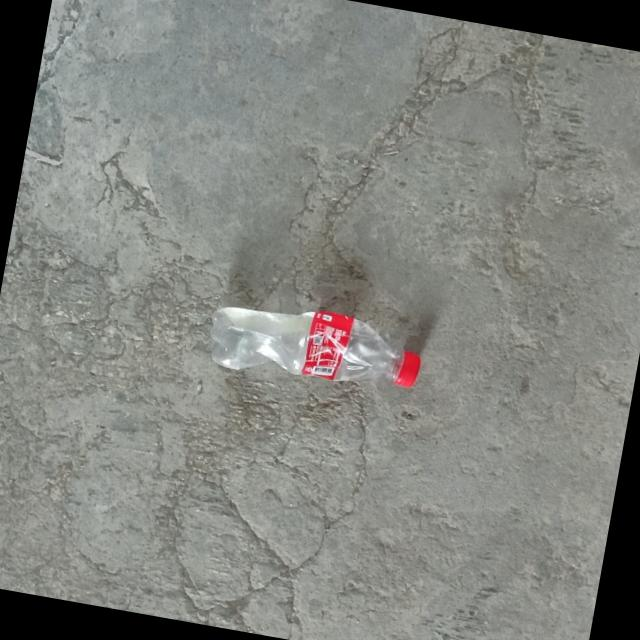Bottle: (210, 307, 421, 387)
